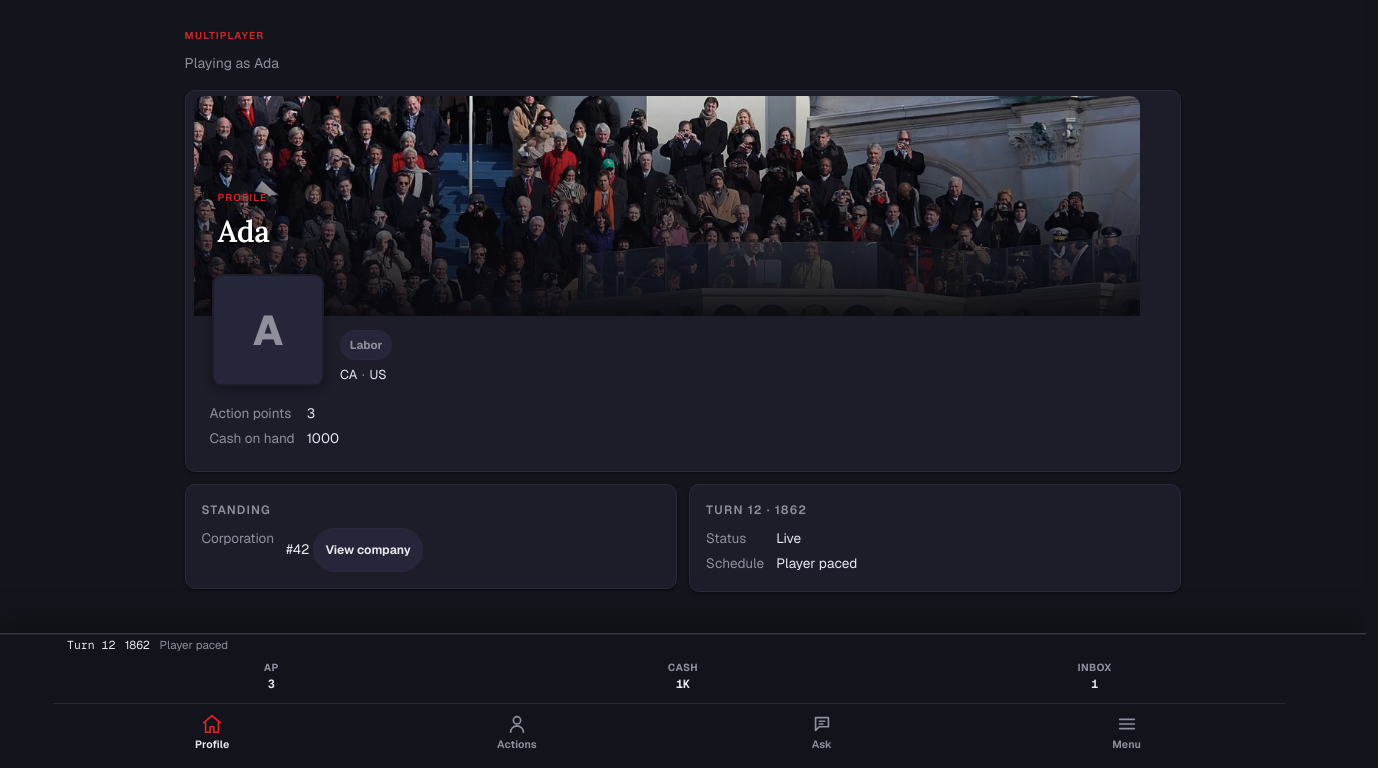
Test case: MP corporation detail drill-in at 1280px (#359) › opens the authoritative summary from Standing and returns to it
Click the button "View company" at (368, 550), box [313,528,423,572]
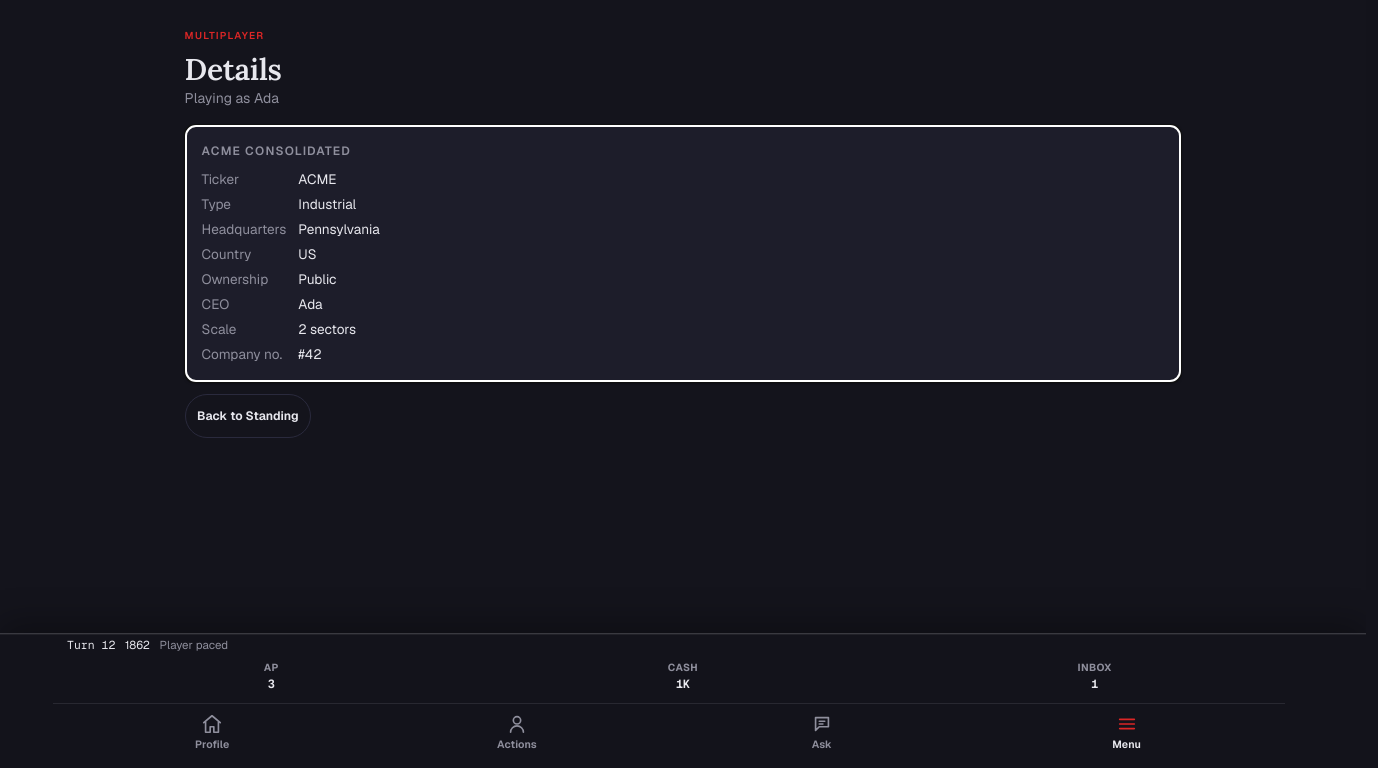
Now the heading "Acme Consolidated" is shown, box [202,143,351,159]
Now the text "ACME" is shown, box [298,170,336,188]
Now the text "Industrial" is shown, box [298,195,356,213]
Click the button "Back to Standing" at (248, 416), box [185,394,311,438]
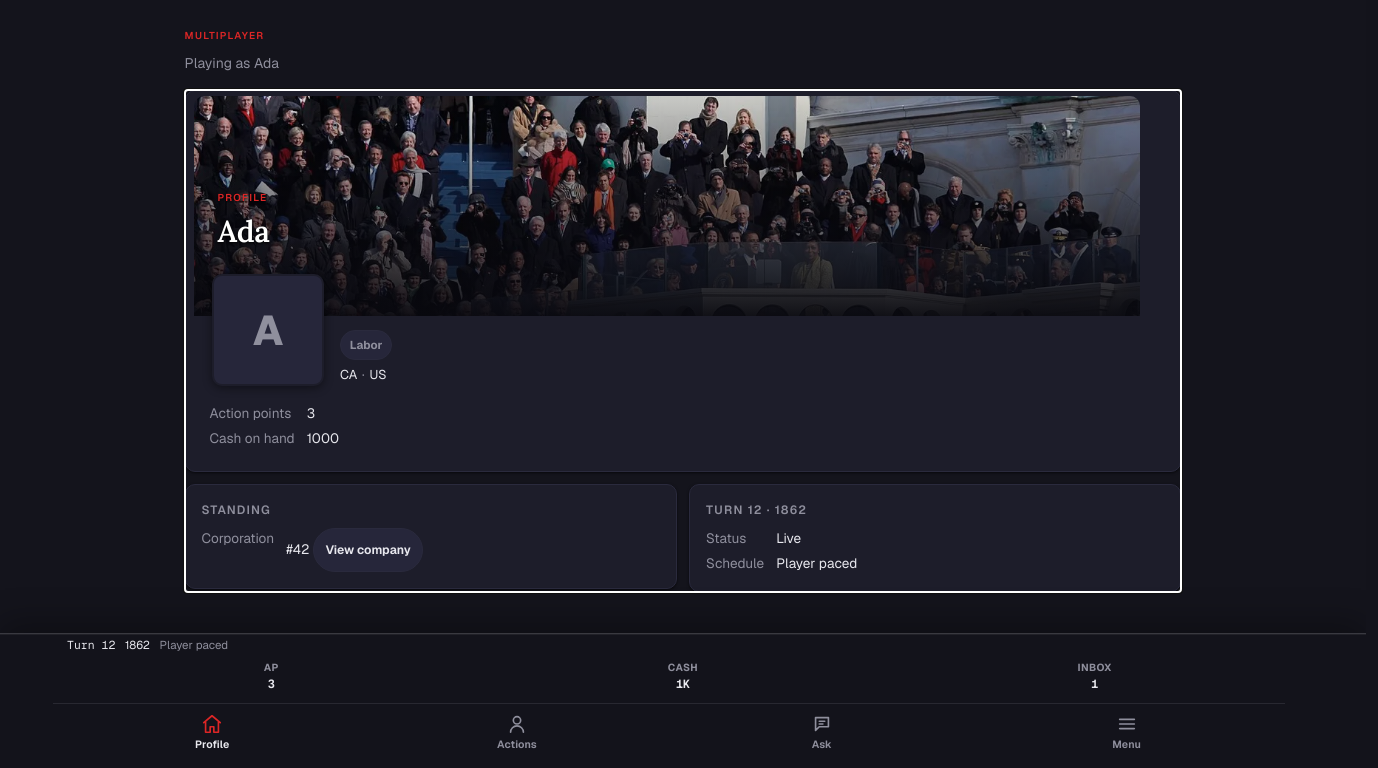
Now the element "Standing" is shown, box [185,484,677,589]
